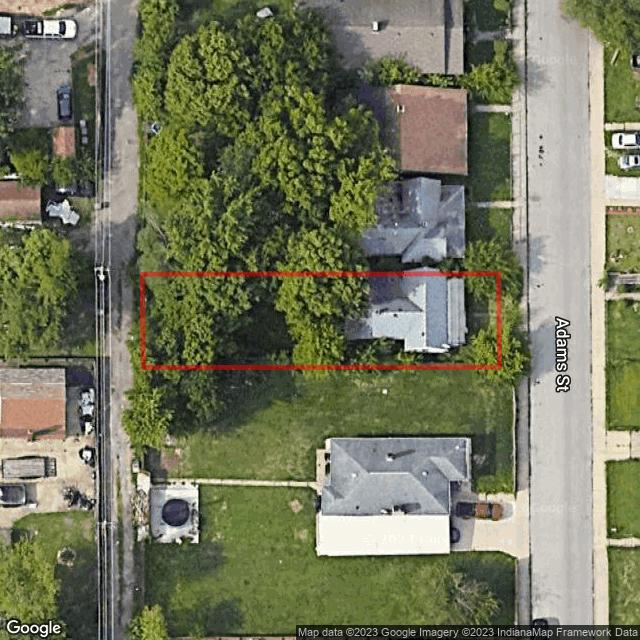Driveway: (465, 307, 496, 319)
Extra Driveway: (512, 300, 528, 331)
House: (348, 276, 468, 352)
